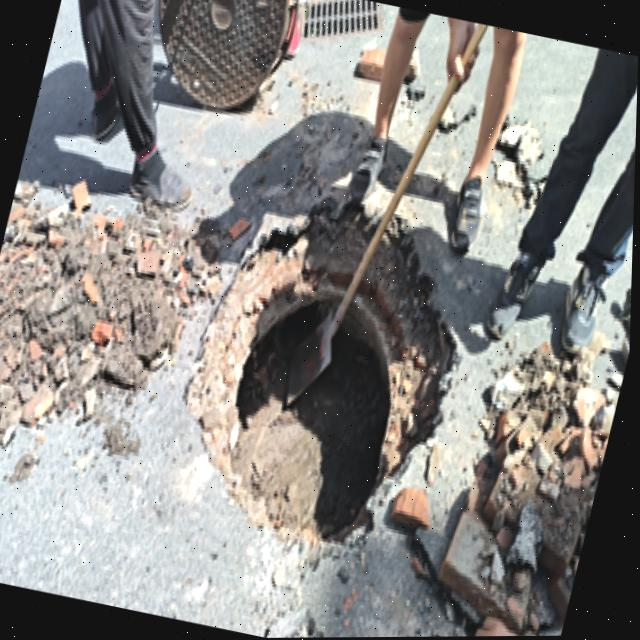manhole: (187, 216, 469, 558)
